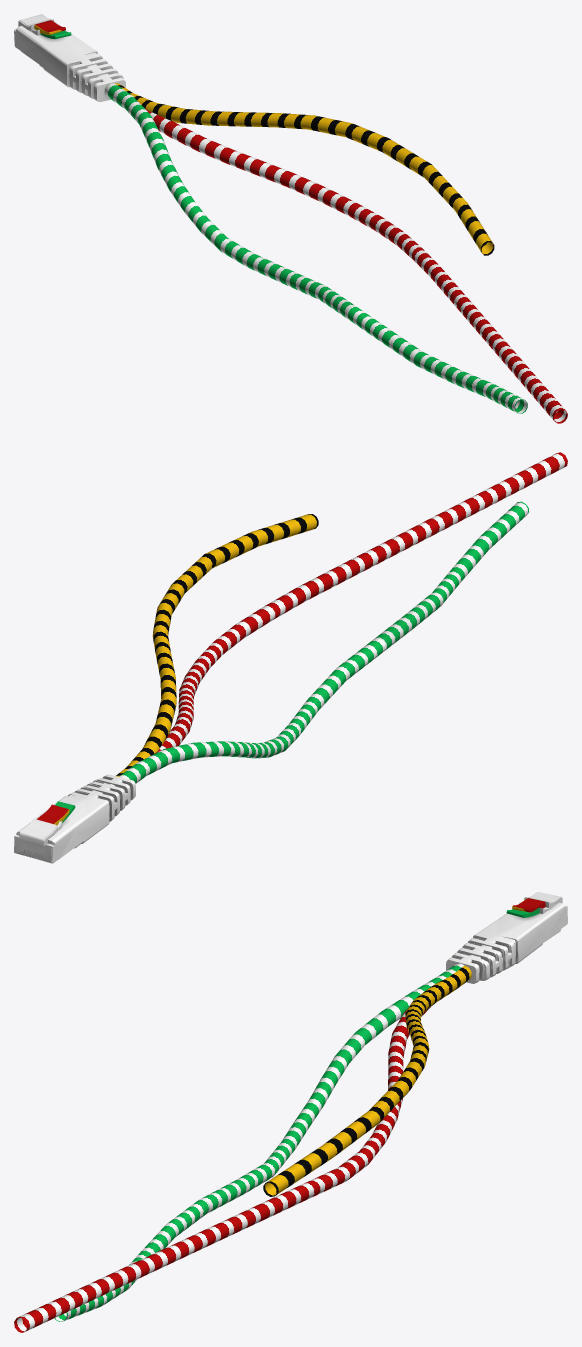
The model's file is wires.fbx.
3 renders of one model, top to bottom at view 1: azimuth 30°, elevation 25°; view 2: azimuth 150°, elevation 25°; view 3: azimuth 330°, elevation 25°, orthographic. The views are drawn at different scales.
Visible parts, largest first — view 1: pWire_GREEN, pWire_RED, pWire_YELLOW; view 2: pWire_GREEN, pWire_RED, pWire_YELLOW; view 3: pWire_RED, pWire_GREEN, pWire_YELLOW.
Part boxes in pixels (<box>): pWire_GREEN: <box>21,25,527,413</box>; pWire_RED: <box>14,14,567,423</box>; pWire_YELLOW: <box>14,21,494,255</box>; pWire_GREEN: <box>38,501,528,859</box>; pWire_RED: <box>14,452,567,862</box>; pWire_YELLOW: <box>14,514,318,863</box>; pWire_RED: <box>14,892,567,1332</box>; pWire_GREEN: <box>54,902,561,1321</box>; pWire_YELLOW: <box>263,892,566,1196</box>.
Bounding box in the file's own units: 0.3361 × 0.2271 × 1.95.
1 material, 1 textured.
